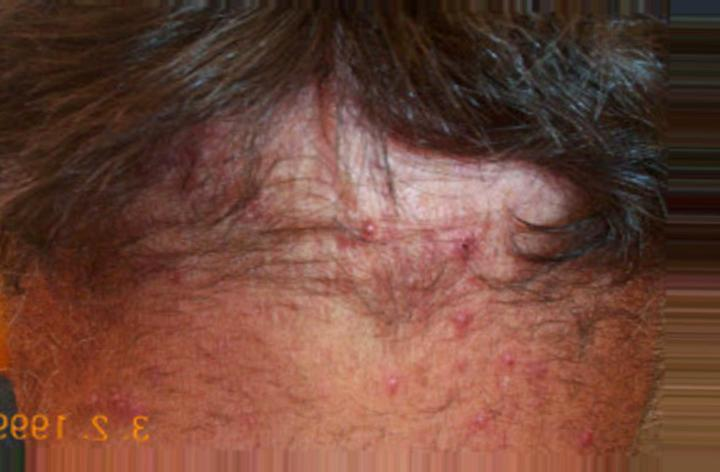Folliculitis: (166, 119, 498, 354)
